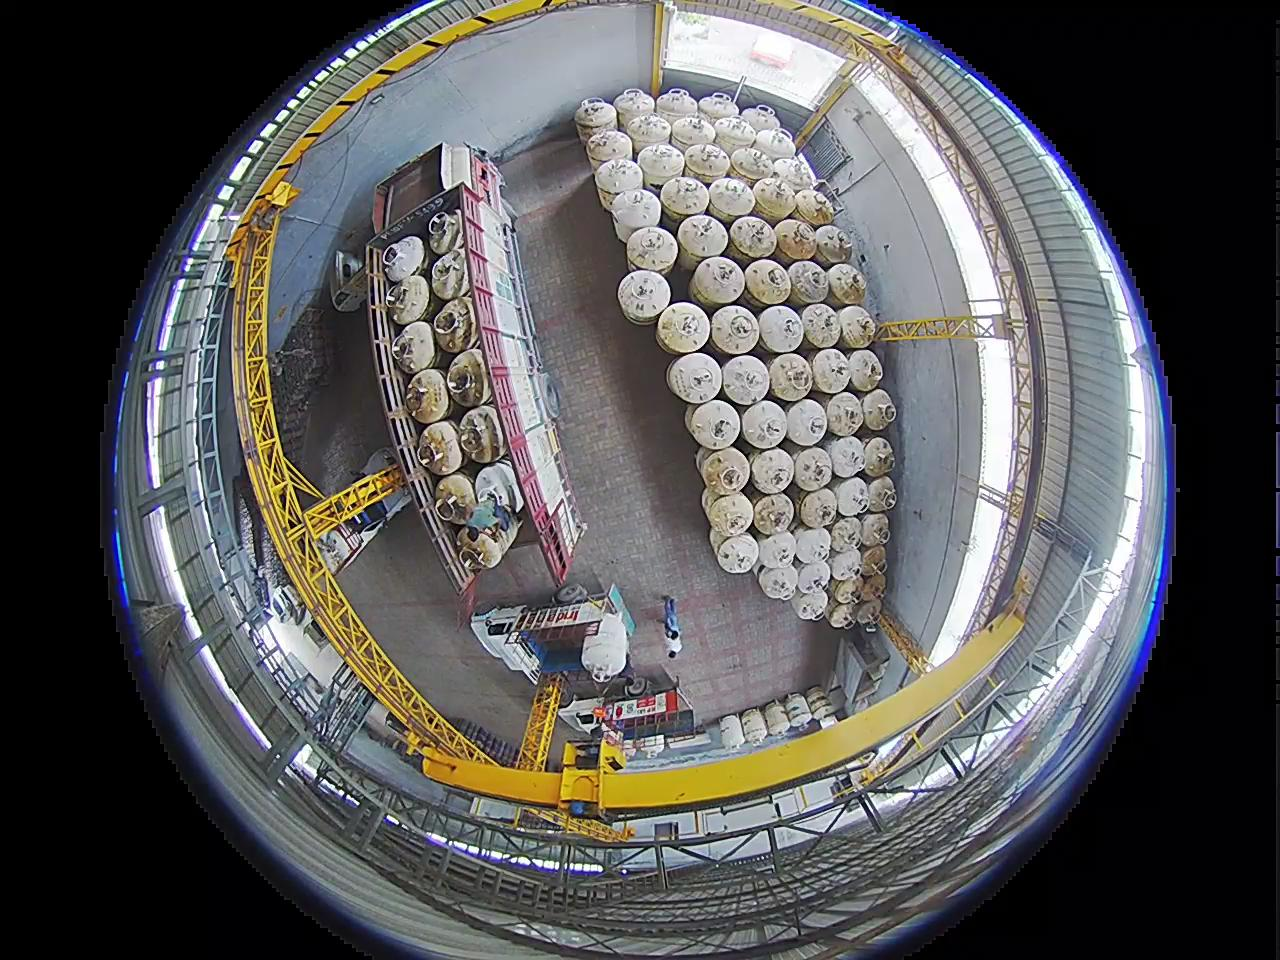cylinder: (581, 613, 637, 691), (387, 273, 452, 326), (617, 271, 681, 324), (666, 352, 722, 406), (656, 300, 710, 352), (687, 398, 740, 450), (691, 256, 744, 307), (709, 304, 762, 355), (719, 354, 770, 406), (740, 399, 790, 451), (404, 367, 451, 422), (677, 213, 728, 262), (433, 297, 478, 352), (757, 305, 807, 354), (700, 446, 750, 495), (417, 420, 464, 472), (391, 321, 436, 375), (611, 189, 660, 238), (626, 226, 676, 274), (744, 258, 794, 306), (595, 156, 644, 204), (659, 175, 710, 220), (749, 446, 796, 494), (767, 353, 813, 401), (707, 176, 756, 221), (428, 247, 469, 300), (728, 215, 777, 259), (637, 142, 686, 186), (433, 474, 478, 521), (584, 127, 631, 172), (382, 236, 426, 284), (785, 398, 829, 445), (706, 493, 753, 537), (625, 111, 673, 153), (786, 260, 830, 305), (790, 446, 834, 491), (573, 96, 617, 141), (752, 177, 798, 220), (669, 114, 716, 156), (683, 142, 731, 183), (810, 348, 852, 394), (751, 492, 795, 535), (800, 303, 842, 348), (775, 218, 820, 260), (824, 391, 865, 437), (836, 305, 877, 350), (826, 263, 868, 306), (655, 87, 699, 128), (798, 487, 839, 530), (827, 434, 867, 478), (716, 534, 760, 573), (814, 225, 854, 267), (847, 348, 885, 392), (731, 145, 775, 183), (713, 116, 757, 154), (612, 89, 653, 129), (832, 475, 871, 517), (770, 157, 813, 195), (428, 210, 464, 255), (794, 187, 835, 226), (757, 531, 798, 570), (793, 526, 832, 567), (314, 532, 352, 573), (861, 388, 898, 430), (757, 564, 798, 600), (754, 127, 796, 162), (697, 91, 738, 126), (862, 436, 896, 475), (740, 104, 780, 136), (795, 559, 830, 595), (829, 516, 863, 553), (792, 588, 829, 621), (866, 475, 898, 513), (363, 447, 401, 478), (829, 548, 863, 582), (826, 597, 860, 630), (860, 512, 891, 548), (740, 708, 769, 744), (806, 687, 835, 721), (684, 402, 710, 439), (830, 576, 862, 606), (719, 715, 746, 750), (860, 544, 889, 576), (785, 693, 814, 725), (764, 702, 791, 736), (709, 528, 738, 559), (859, 571, 887, 599), (855, 600, 882, 627), (417, 444, 438, 466)
truck: (365, 144, 584, 620), (474, 597, 670, 682), (308, 455, 416, 583), (573, 690, 702, 768)
